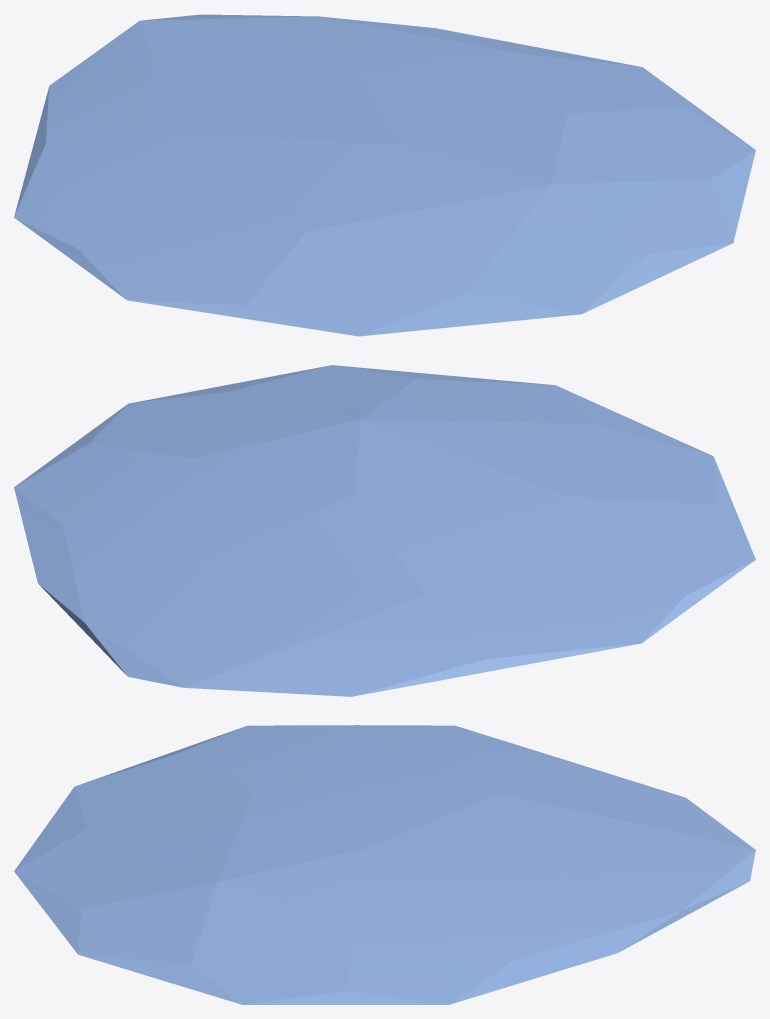
The model's file is ice_pile2.fbx.
3 views of the same model, one above another, from view 1: azimuth 30°, elevation 25°; view 2: azimuth 150°, elevation 25°; view 3: azimuth 270°, elevation 25° (orthographic). The views are drawn at different scales.
Parts seen in each view (by area): view 1: Icosphere; view 2: Icosphere; view 3: Icosphere.
Boxes of the visible parts, x1,y1,x2,y2 form: Icosphere: (14,14,755,336); Icosphere: (14,365,755,696); Icosphere: (14,725,755,1004).
Bounding box in the file's own units: 1018 × 43.64 × 1143.
